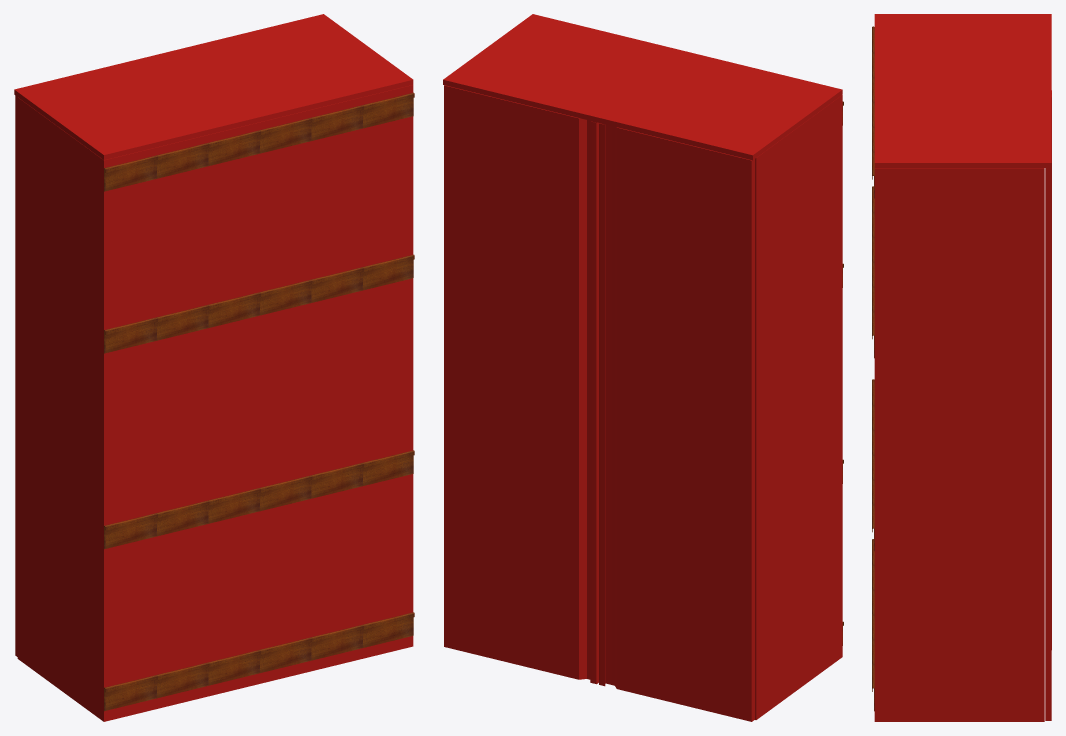
3 views of the same model, side by side, from view 1: azimuth 30°, elevation 25°; view 2: azimuth 150°, elevation 25°; view 3: azimuth 270°, elevation 25° (orthographic).
Visible parts, largest first — view 1: mesh5_mesh5-geometry, mesh3_mesh3-geometry, mesh1_mesh1-geometry, mesh2_mesh2-geometry, mesh6_mesh6-geometry, mesh9_mesh9-geometry; view 2: mesh9_mesh9-geometry, mesh8_mesh8-geometry, mesh3_mesh3-geometry, mesh2_mesh2-geometry; view 3: mesh6_mesh6-geometry, mesh2_mesh2-geometry, mesh8_mesh8-geometry, mesh1_mesh1-geometry.
Boxes of the visible parts, bbox=[...] form: mesh5_mesh5-geometry: bbox=[109, 86, 408, 720]; mesh3_mesh3-geometry: bbox=[17, 97, 108, 721]; mesh1_mesh1-geometry: bbox=[104, 92, 414, 711]; mesh2_mesh2-geometry: bbox=[14, 14, 413, 159]; mesh6_mesh6-geometry: bbox=[408, 85, 413, 647]; mesh9_mesh9-geometry: bbox=[15, 95, 17, 656]; mesh9_mesh9-geometry: bbox=[599, 123, 754, 721]; mesh8_mesh8-geometry: bbox=[444, 85, 598, 684]; mesh3_mesh3-geometry: bbox=[755, 95, 842, 719]; mesh2_mesh2-geometry: bbox=[443, 14, 842, 160]; mesh6_mesh6-geometry: bbox=[874, 168, 1044, 721]; mesh2_mesh2-geometry: bbox=[874, 14, 1051, 167]; mesh8_mesh8-geometry: bbox=[1045, 94, 1051, 720]; mesh1_mesh1-geometry: bbox=[872, 26, 874, 711].
Size of the model in its own units: 0.481 by 0.8417 by 0.2454.
